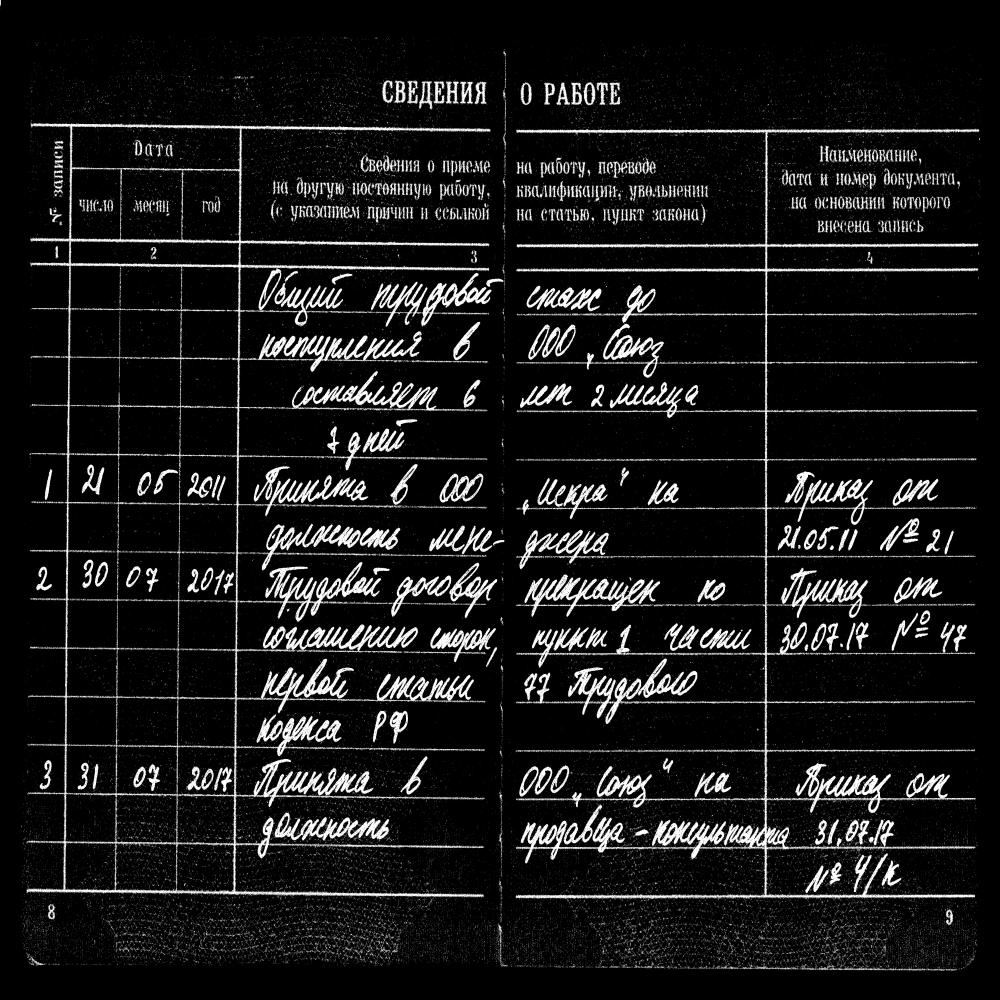rus: (238, 266, 504, 318), (511, 748, 754, 800), (515, 803, 791, 847), (279, 366, 486, 423), (41, 748, 237, 803), (31, 552, 237, 602), (774, 513, 962, 566), (41, 461, 231, 513), (251, 314, 427, 368), (248, 456, 427, 509), (248, 698, 439, 747), (773, 608, 971, 653), (246, 752, 438, 796), (792, 747, 957, 798), (446, 325, 672, 360), (254, 611, 423, 656), (774, 464, 947, 507), (776, 566, 959, 606), (256, 561, 382, 612), (314, 417, 462, 457), (259, 520, 405, 560), (244, 808, 396, 846), (522, 666, 700, 698), (520, 472, 690, 505), (509, 380, 703, 406), (380, 70, 488, 116), (527, 570, 664, 606), (512, 71, 624, 113), (519, 279, 660, 312), (249, 659, 361, 700), (397, 568, 495, 608), (531, 620, 635, 656), (660, 615, 752, 655), (520, 523, 610, 563), (804, 808, 904, 842), (375, 673, 479, 703), (429, 618, 498, 660), (423, 522, 502, 556), (440, 461, 488, 502), (694, 572, 727, 598), (515, 393, 522, 395)
